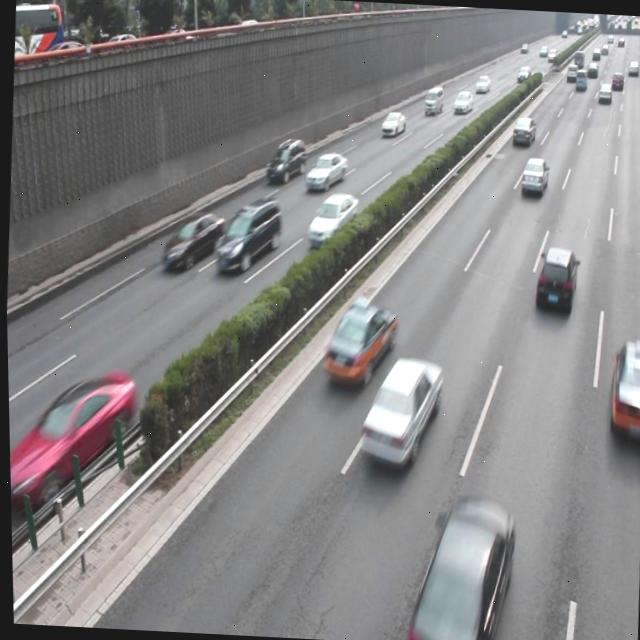car: (12, 368, 137, 512), (405, 491, 514, 640), (353, 354, 442, 470), (318, 297, 396, 386), (210, 194, 282, 274), (159, 208, 224, 273), (603, 339, 640, 445), (531, 244, 577, 316), (305, 188, 357, 244), (264, 136, 305, 184), (303, 149, 347, 192), (517, 157, 547, 199)
